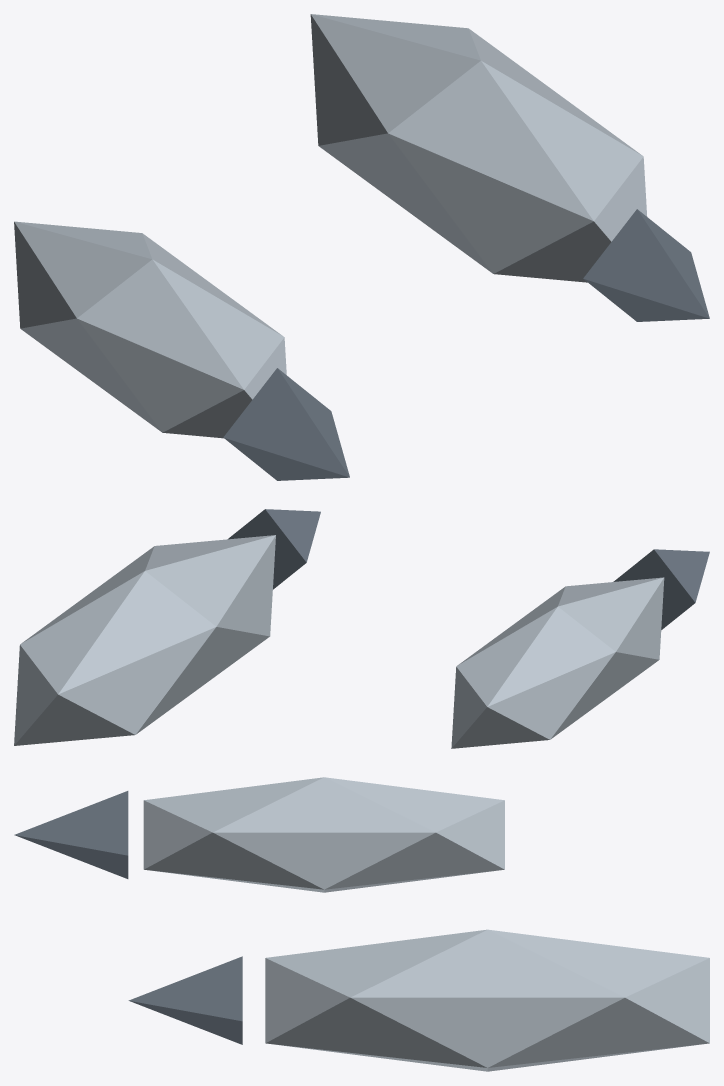
The model's file is peixe_morto.glb.
The picture shows the model from 3 angles, top to bottom: view 1: azimuth 30°, elevation 25°; view 2: azimuth 150°, elevation 25°; view 3: azimuth 270°, elevation 25°; orthographic projection. The views are drawn at different scales.
Visible parts, largest first — view 1: corpo; view 2: corpo; view 3: corpo.
Part boxes in pixels (bbox=[...]): corpo: bbox=[14, 14, 709, 480]; corpo: bbox=[14, 509, 709, 748]; corpo: bbox=[14, 777, 709, 1071].
Size of the model in its own units: 0.3334 by 0.096 by 0.4261.
